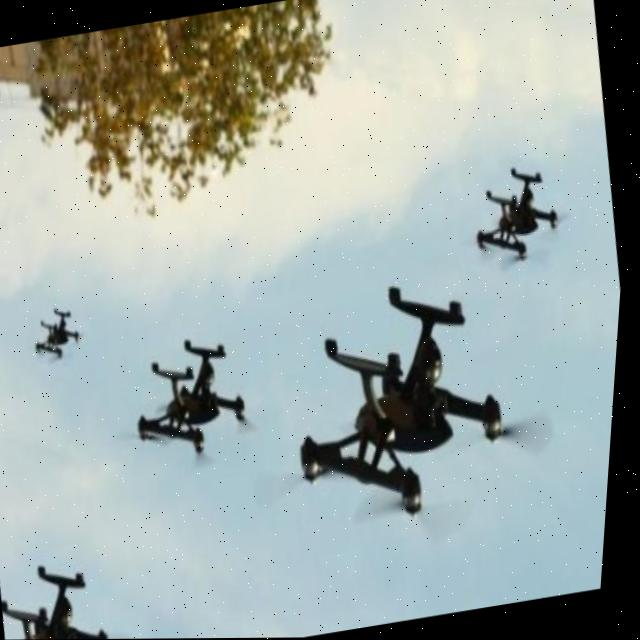drones: (218, 240, 591, 587), (87, 295, 291, 508), (448, 123, 591, 302), (0, 537, 147, 640), (9, 271, 113, 397)
